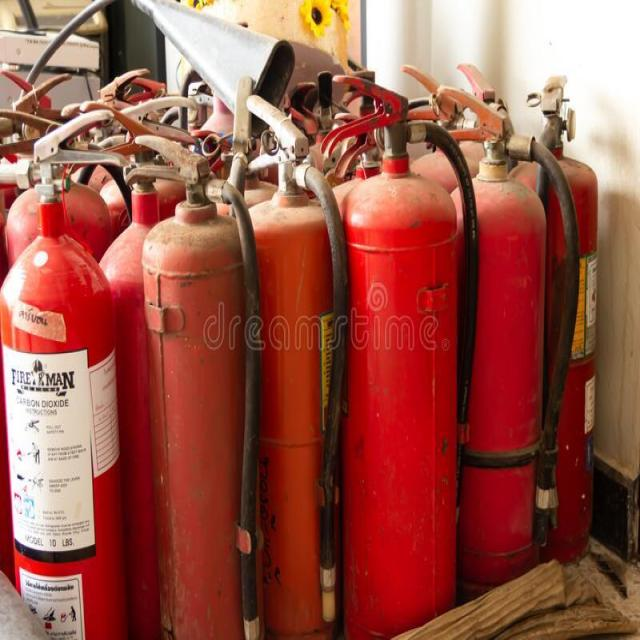fire_extinguisher: (318, 67, 484, 639), (428, 80, 578, 594), (118, 128, 267, 639), (222, 90, 352, 639), (0, 107, 134, 639), (75, 92, 197, 639), (496, 71, 608, 569)
